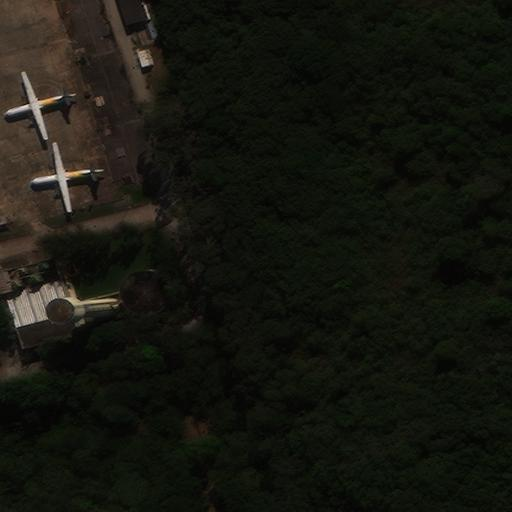Medium Civil Transport: (34, 149, 96, 207), (8, 77, 67, 135)
